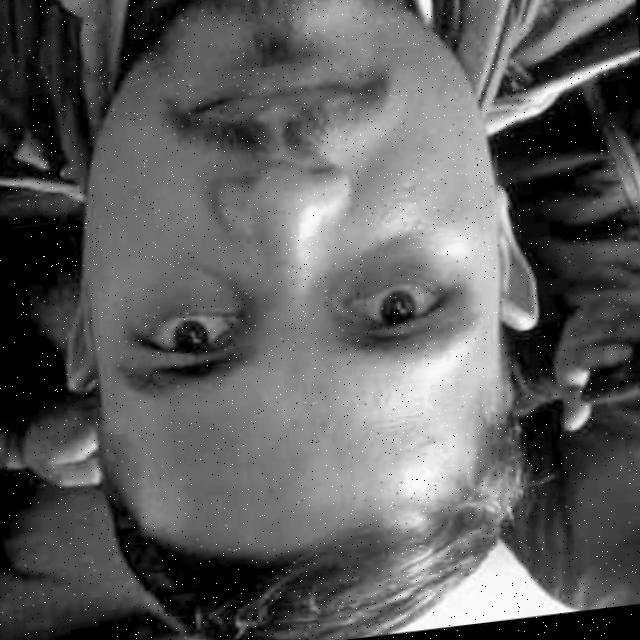puffy_eyes: (320, 237, 435, 304), (162, 266, 259, 322)
